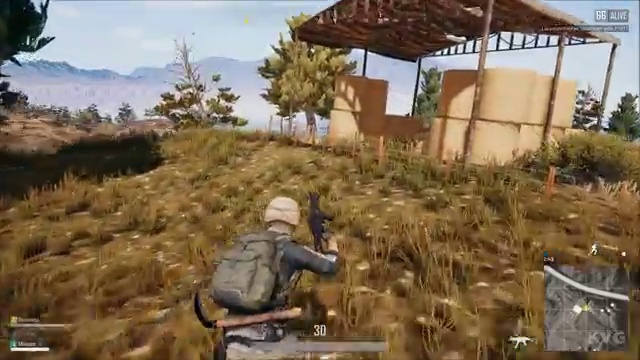Player: (196, 178, 368, 311)
